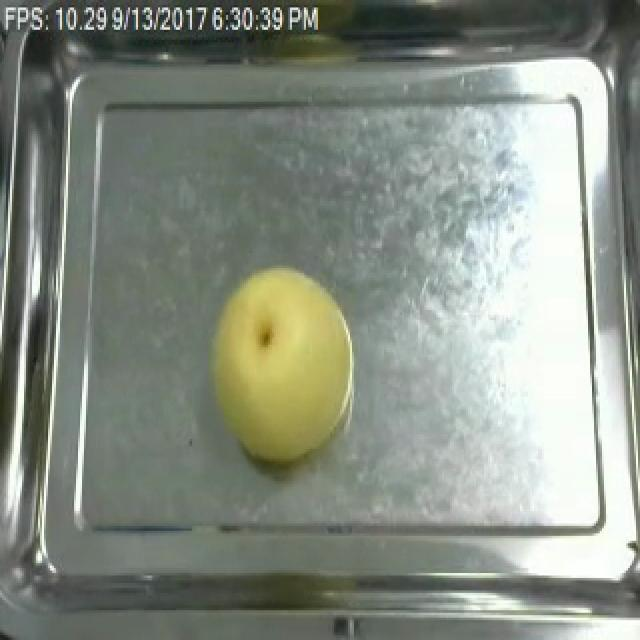Fruit: (200, 258, 364, 469)
